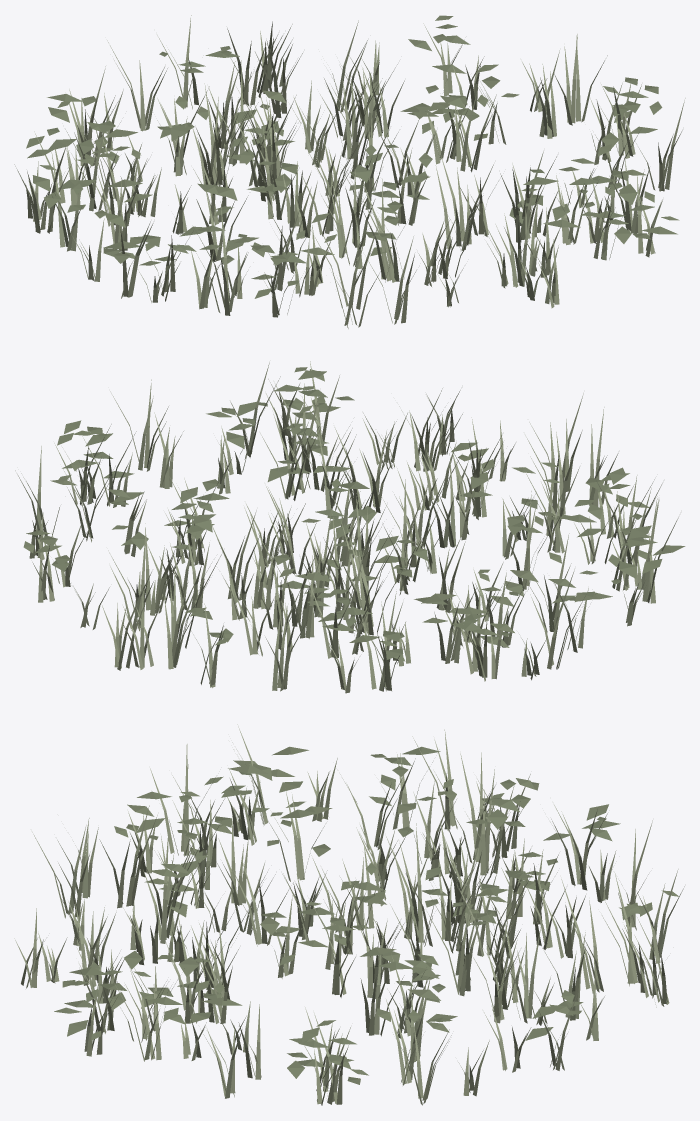
File: AE_Encroachment_17.fbx
3 views of the same model, one above another, from view 1: azimuth 30°, elevation 25°; view 2: azimuth 150°, elevation 25°; view 3: azimuth 270°, elevation 25° (orthographic). The views are drawn at different scales.
Parts seen in each view (by area): view 1: AE_Encroachment_17_LOD0; view 2: AE_Encroachment_17_LOD0; view 3: AE_Encroachment_17_LOD0.
Boxes of the visible parts, left/top/right/bottom form: AE_Encroachment_17_LOD0: left=14, top=15, right=685, bottom=328; AE_Encroachment_17_LOD0: left=15, top=361, right=685, bottom=693; AE_Encroachment_17_LOD0: left=14, top=724, right=684, bottom=1105.
Size of what is drawn, in the model's own units: 634 by 108 by 603.
